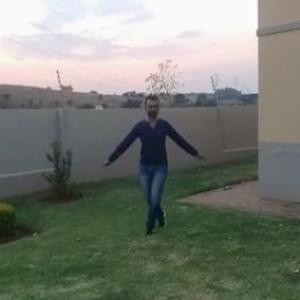land: (98, 84, 201, 238)
